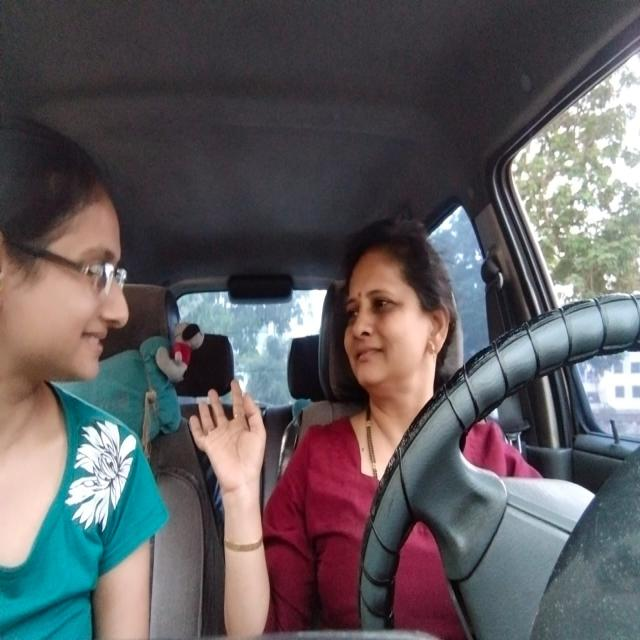LeftRight: (343, 212, 455, 405)
person: (3, 110, 132, 400)
talking: (352, 337, 388, 370), (82, 322, 106, 355)
